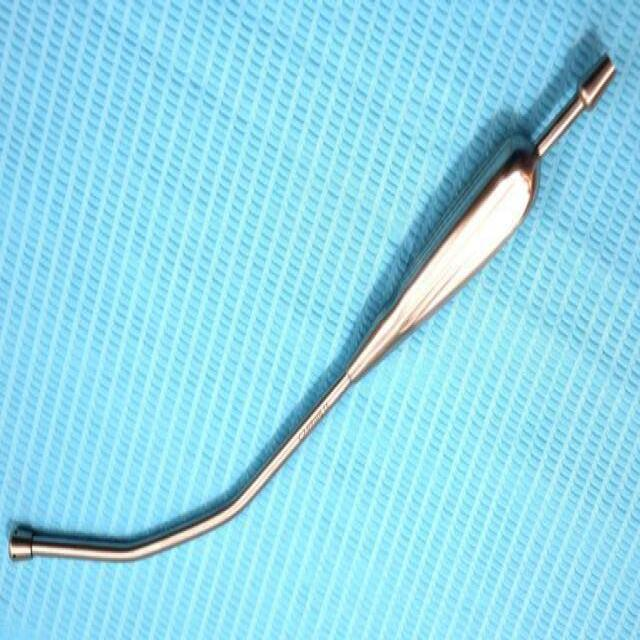Yankauer: (6, 52, 619, 575)
